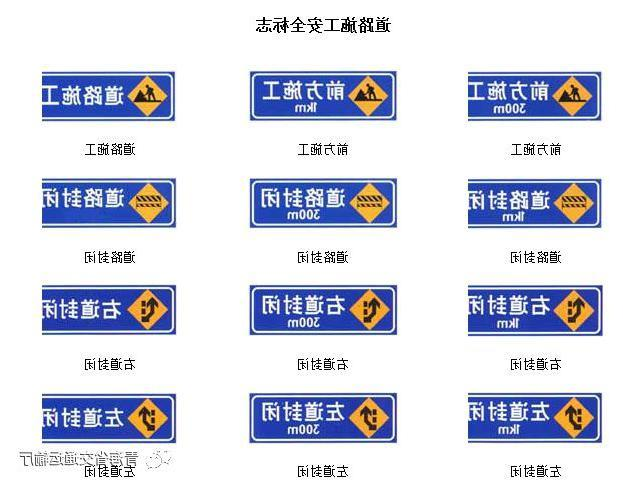sign: (249, 178, 398, 227), (249, 396, 396, 442), (250, 287, 397, 333), (250, 73, 395, 119), (469, 392, 600, 441), (42, 394, 173, 442), (41, 178, 174, 225), (467, 286, 600, 333), (41, 73, 174, 119), (42, 287, 176, 332), (468, 73, 602, 118), (468, 179, 600, 224)
